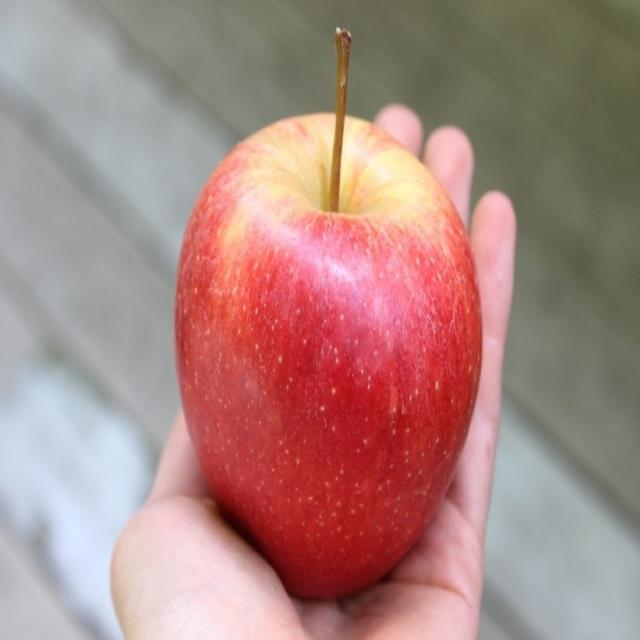Apple: (165, 9, 482, 614)
